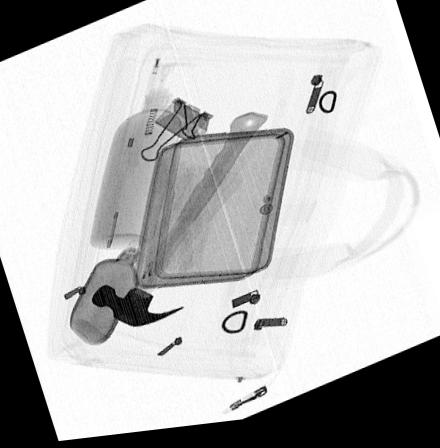Hammer: (87, 117, 267, 331)
